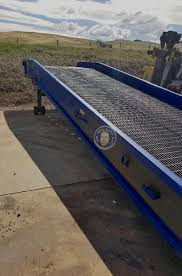Yard Ramp: (20, 57, 182, 245)
